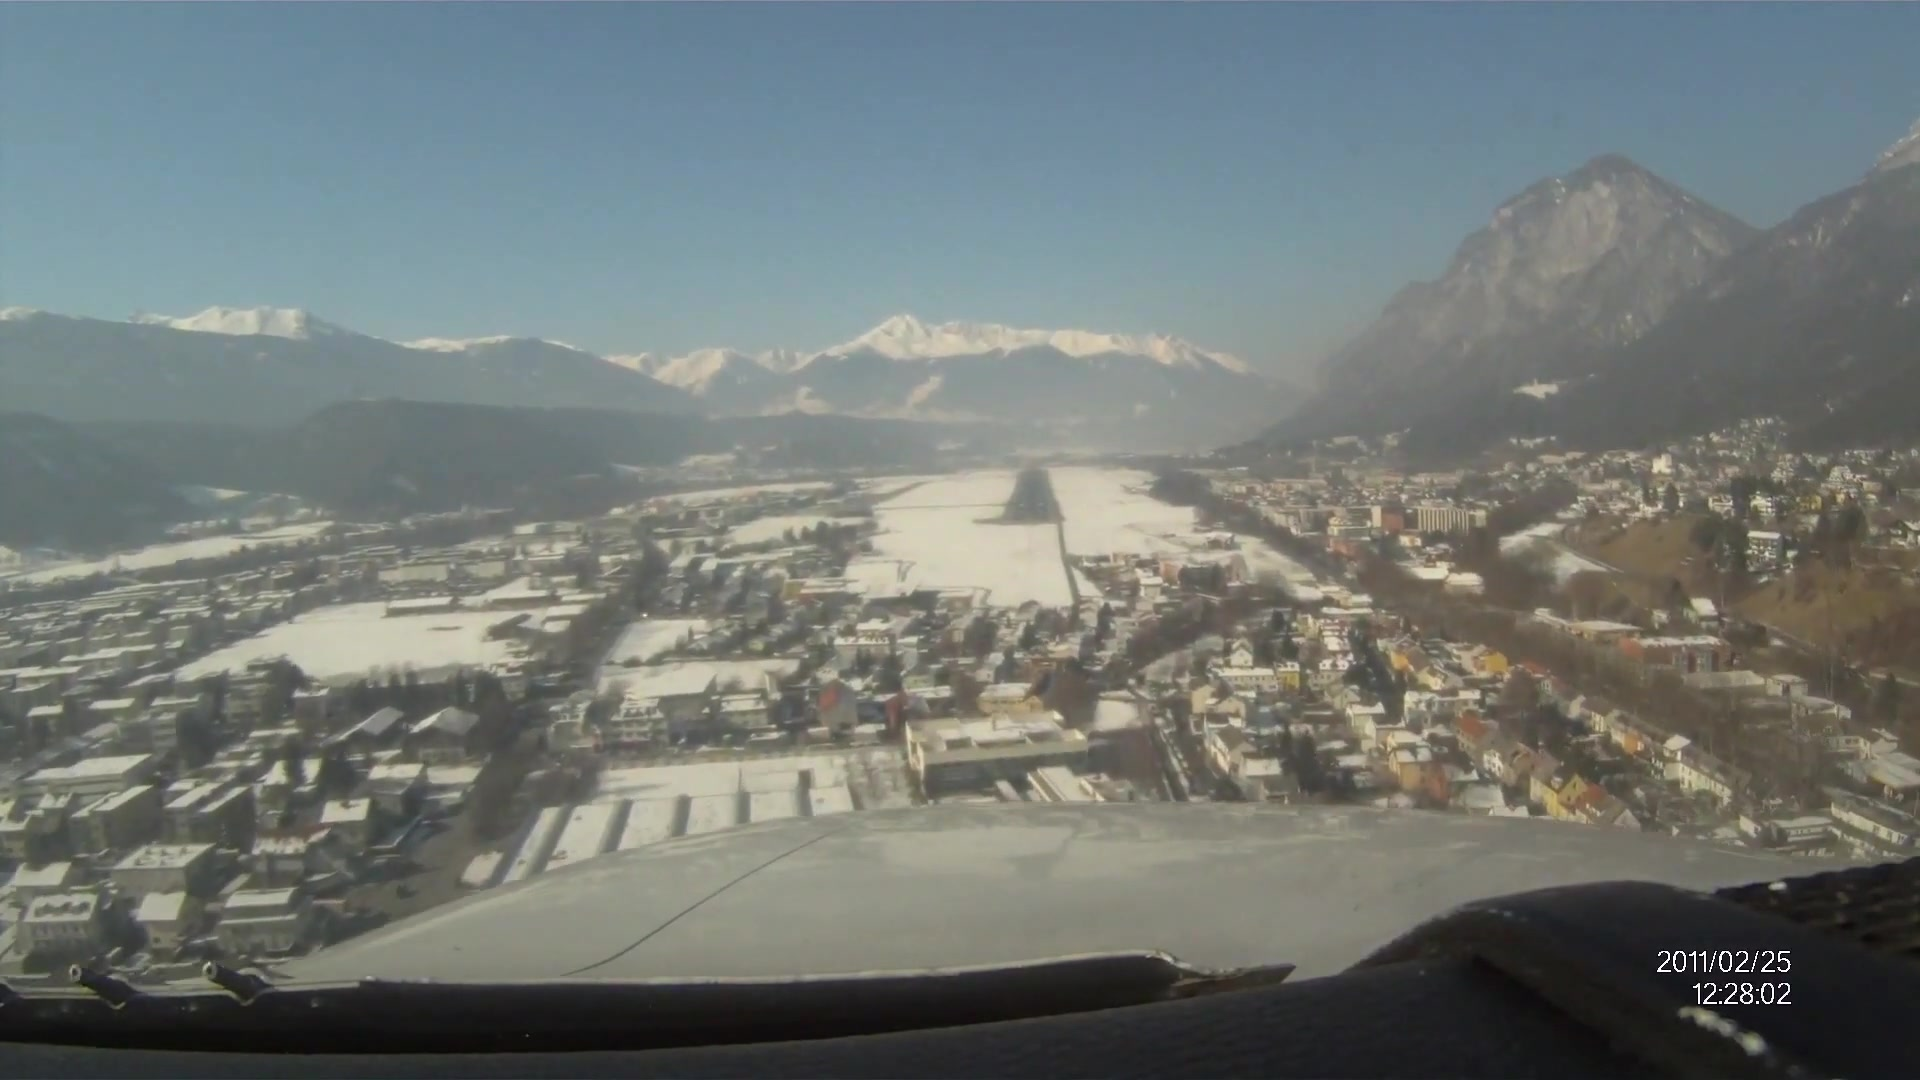runway: (1011, 464, 1054, 524)
